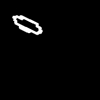chain: (13, 16, 41, 34)
